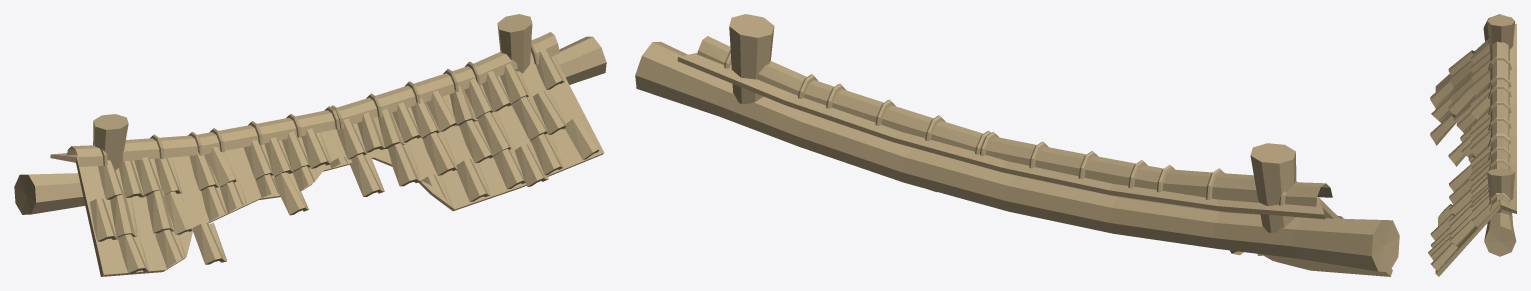
File: Arches-Broken-roof_3.fbx
3 renders of one model, left to right at view 1: azimuth 30°, elevation 25°; view 2: azimuth 150°, elevation 25°; view 3: azimuth 270°, elevation 25°, orthographic. The views are drawn at different scales.
Parts seen in each view (by area): view 1: Arches-Broken-roof; view 2: Arches-Broken-roof; view 3: Arches-Broken-roof.
Boxes of the visible parts, bbox=[...] form: Arches-Broken-roof: bbox=[14, 14, 606, 276]; Arches-Broken-roof: bbox=[635, 14, 1399, 276]; Arches-Broken-roof: bbox=[1428, 14, 1516, 276].
Size of the model in its own units: 1166 by 263 by 203.
